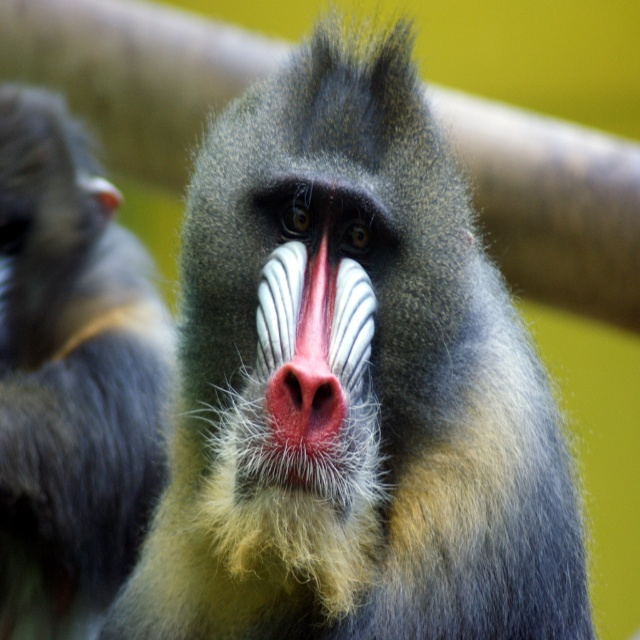Monkey: (90, 0, 615, 640), (0, 79, 180, 640)
